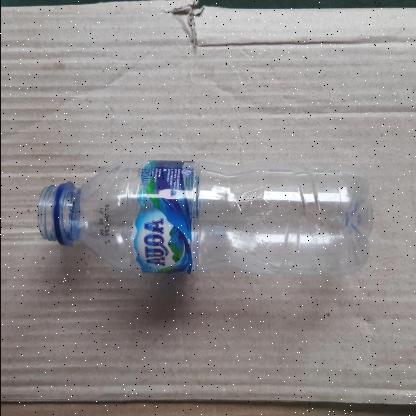Plastic Bottle: (35, 162, 373, 274)
